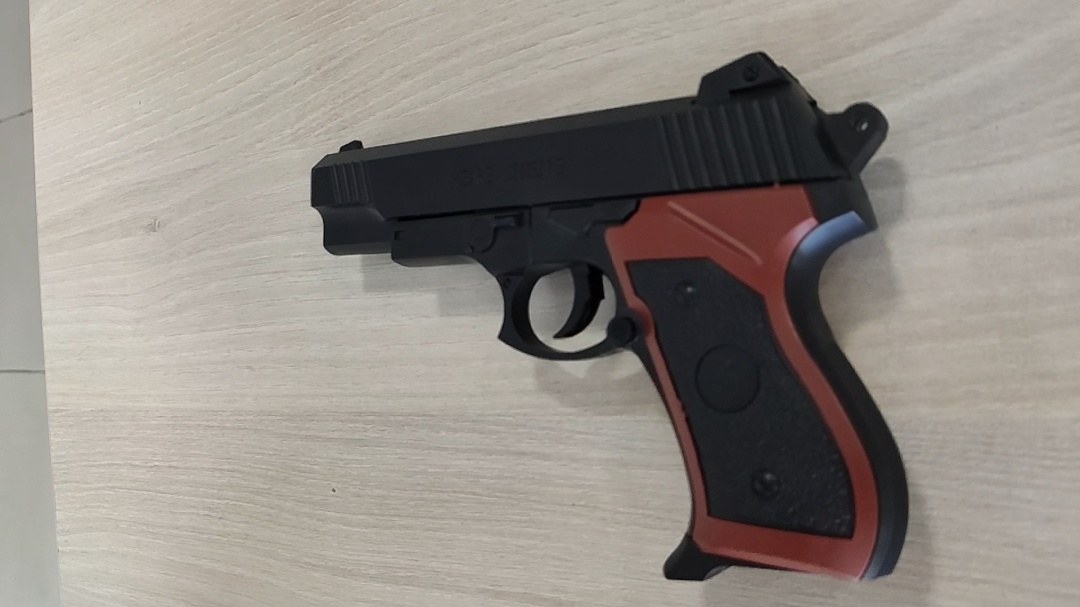gunw: (307, 54, 910, 586)
